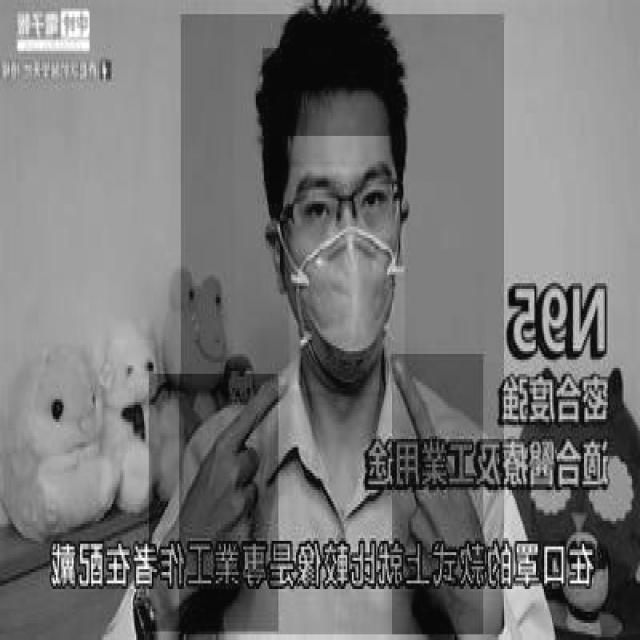face_mask: (288, 167, 405, 394)
glasses: (284, 167, 401, 244)
hand_noglove: (148, 374, 278, 634), (391, 354, 484, 637)
head_nohelmet: (261, 48, 397, 139)
person: (179, 14, 504, 637)
